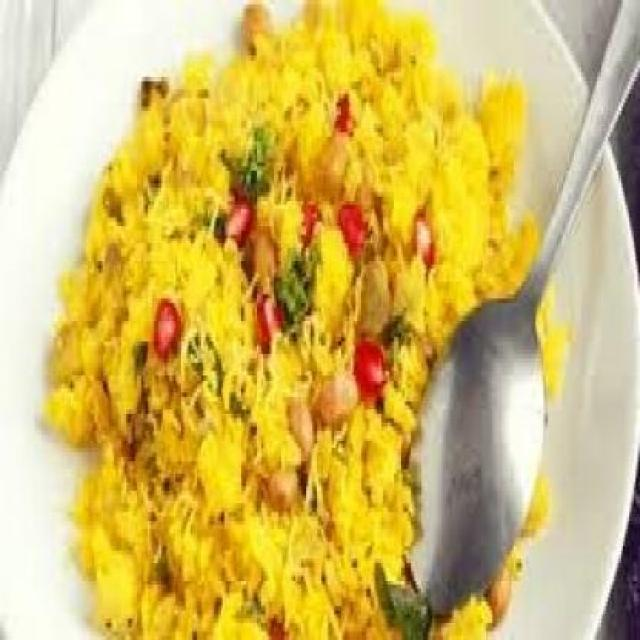poha: (34, 0, 569, 640)
